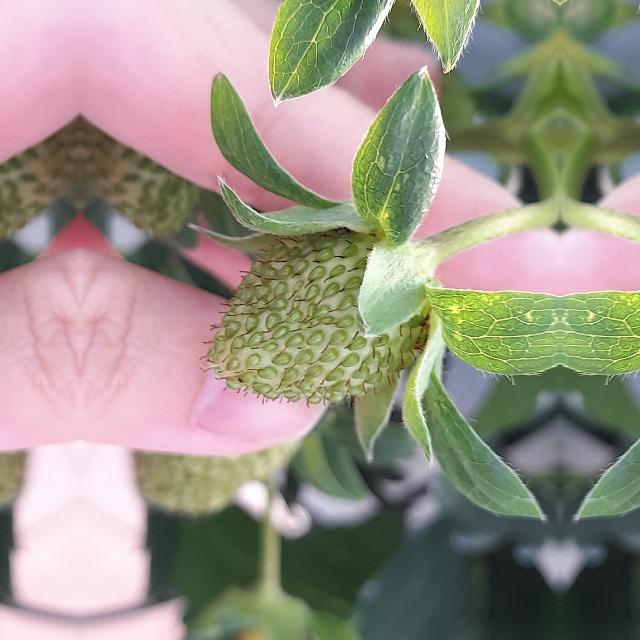Health_25: (199, 226, 435, 408)
